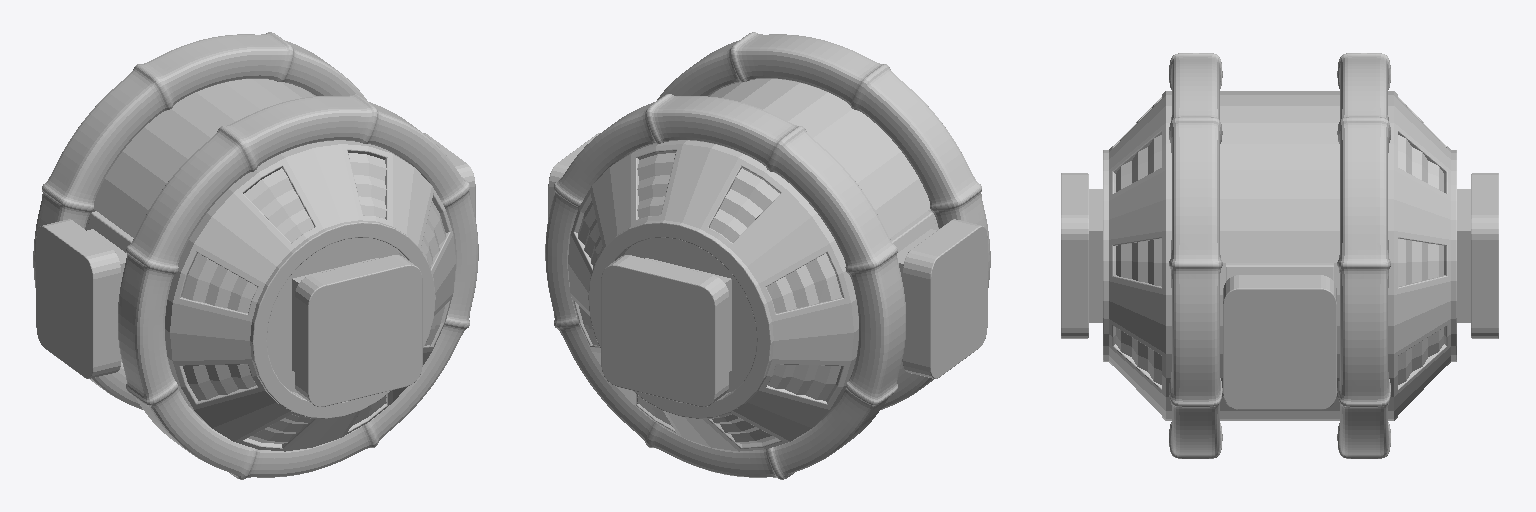
Rendered from frame_ball.obj.
3 views of the same model, side by side, from view 1: azimuth 30°, elevation 25°; view 2: azimuth 150°, elevation 25°; view 3: azimuth 270°, elevation 25° (orthographic).
Parts seen in each view (by area): view 1: Cylinder.008; view 2: Cylinder.008; view 3: Cylinder.008.
Boxes of the visible parts, x1,y1,x2,y2 form: Cylinder.008: [33, 32, 478, 479]; Cylinder.008: [545, 32, 990, 479]; Cylinder.008: [1061, 53, 1498, 458].
Bounding box in the file's own units: 1.34 × 1.2 × 1.33.